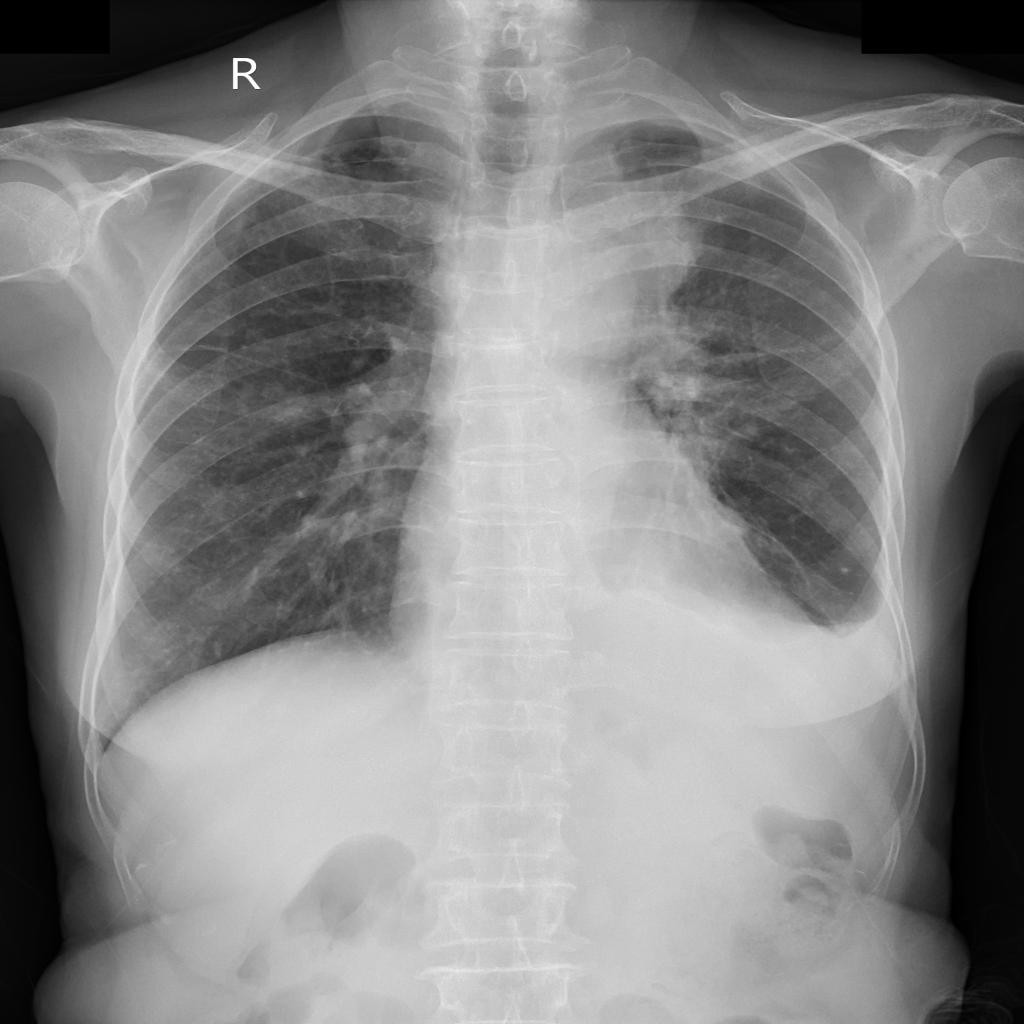Nodule: (567, 198, 695, 313)
